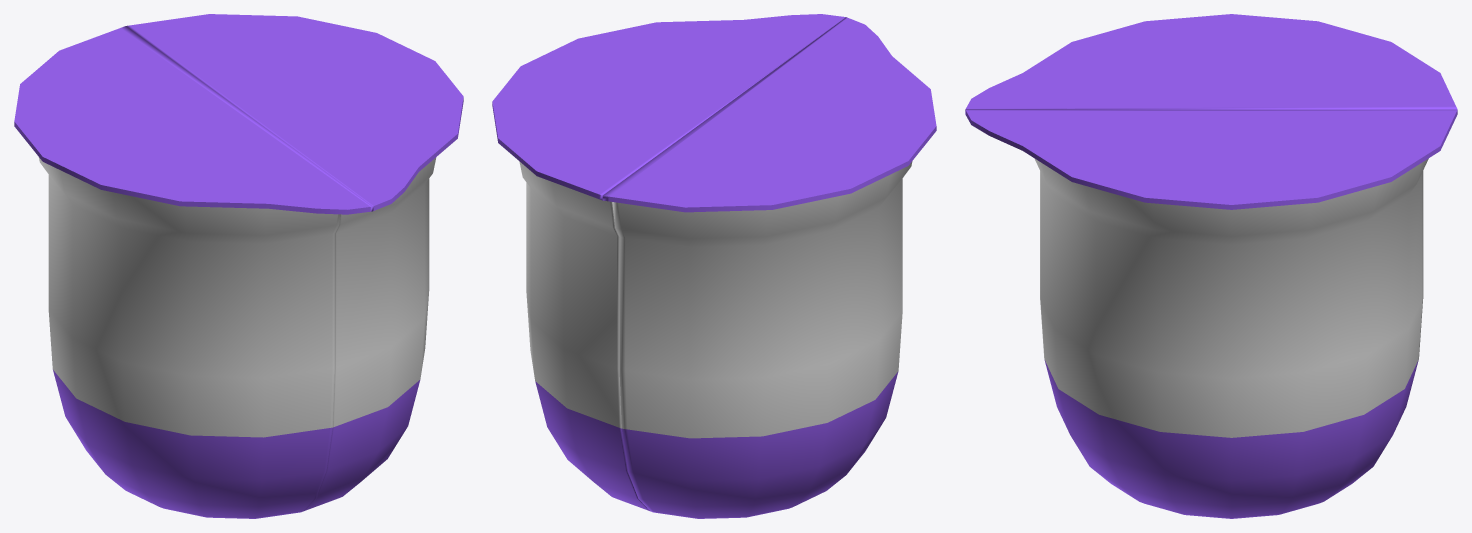
File: SM_Yogurt_01a.fbx
The picture shows the model from 3 angles, left to right: view 1: azimuth 30°, elevation 25°; view 2: azimuth 150°, elevation 25°; view 3: azimuth 270°, elevation 25°; orthographic projection.
Visible parts, largest first — view 1: Yogurt_02, Yogurt_01; view 2: Yogurt_02, Yogurt_01; view 3: Yogurt_01, Yogurt_02.
Boxes of the visible parts, box(x1,y1,x2,y2) form: Yogurt_02: box(14, 26, 372, 518); Yogurt_01: box(126, 14, 463, 510); Yogurt_02: box(602, 17, 936, 518); Yogurt_01: box(492, 14, 845, 510); Yogurt_01: box(965, 109, 1457, 518); Yogurt_02: box(965, 14, 1457, 109).
Size of the model in its own units: 27.37 by 23.99 by 29.8.
